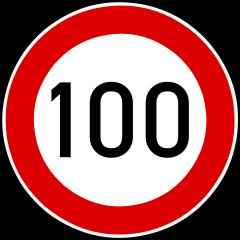Speed Limit -100-: (45, 74, 202, 166)
